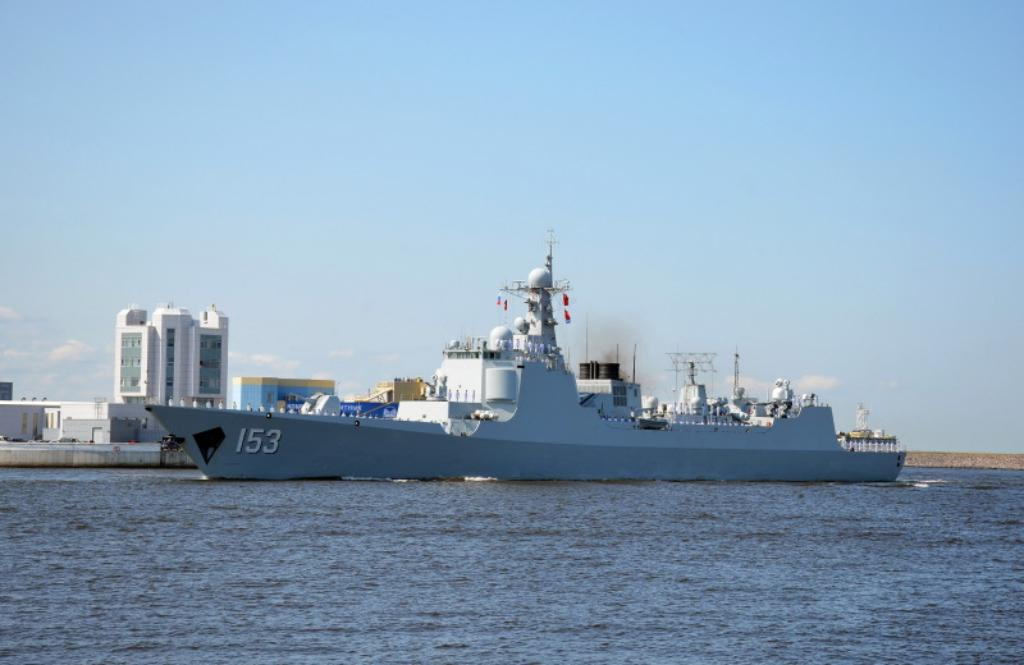Warship: (146, 234, 910, 488)
